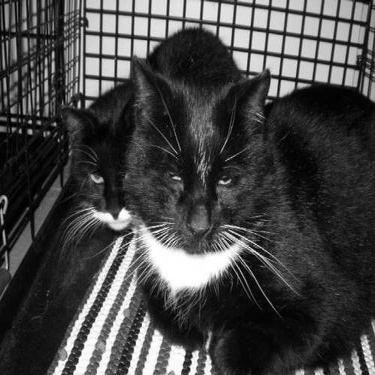cat: (111, 44, 366, 365), (45, 1, 237, 258)
